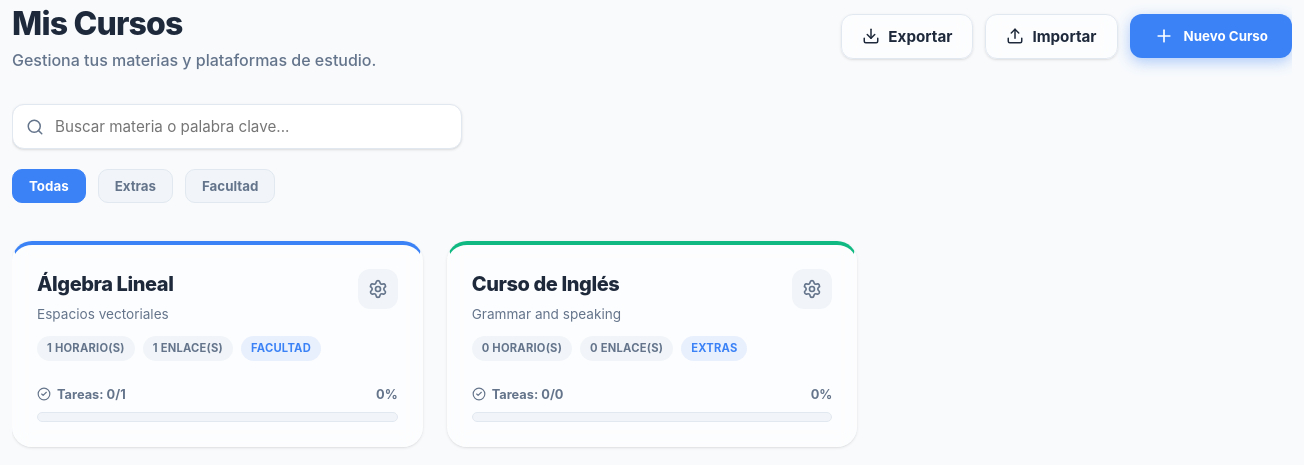
Test: Dashboard component › filters courses by search input
The image size is (1304, 465).
Type "Álgebra" into the field with placeholder "Buscar materia o palabra clave..." at (237, 126), box [12,104,462,149]
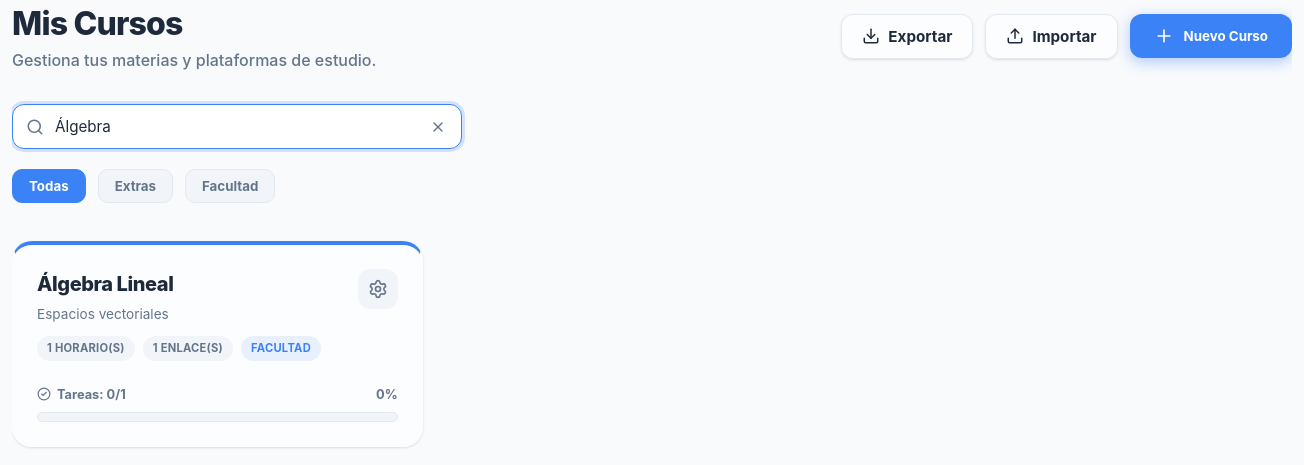
expect the heading "Álgebra Lineal" is shown: met, box [37,272,174,296]
expect the heading "Curso de Inglés" is gone: met
Clear the field with placeholder "Buscar materia o palabra clave..." at (237, 126), box [12,104,462,149]
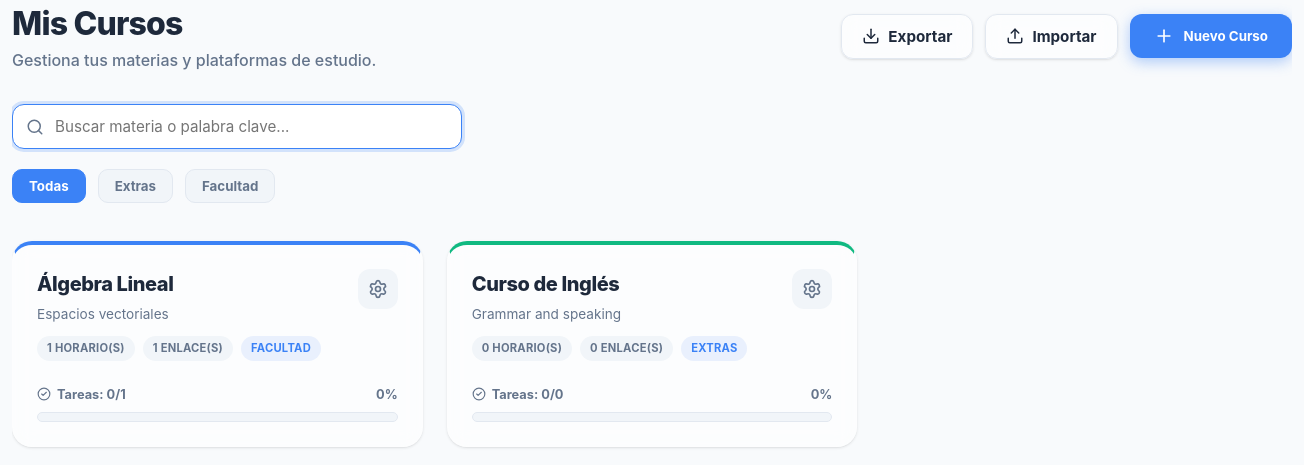
expect the heading "Curso de Inglés" is shown: met, box [472,272,619,296]
